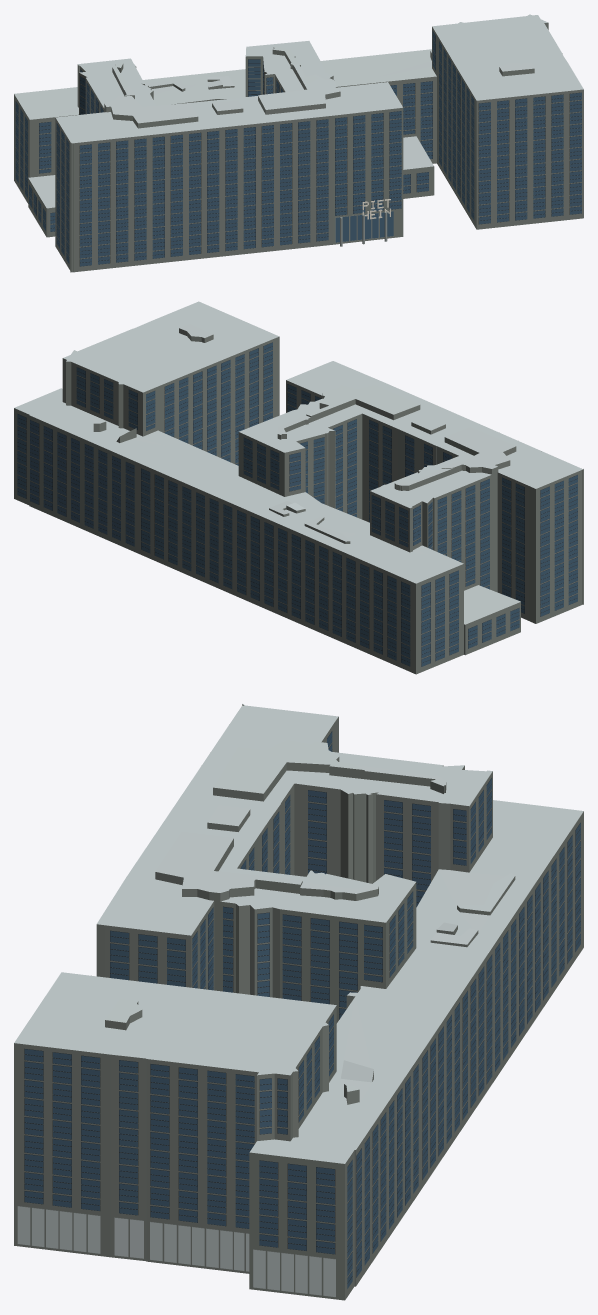
File: vriesseveem-9.glb
3 renders of one model, top to bottom at view 1: azimuth 30°, elevation 25°; view 2: azimuth 150°, elevation 25°; view 3: azimuth 270°, elevation 25°, orthographic. The views are drawn at different scales.
Visible parts, largest first — view 1: vriesseveem-9; view 2: vriesseveem-9; view 3: vriesseveem-9.
Boxes of the visible parts, bbox=[...] form: vriesseveem-9: bbox=[14, 14, 583, 272]; vriesseveem-9: bbox=[14, 301, 583, 674]; vriesseveem-9: bbox=[14, 703, 583, 1300].
Bounding box in the file's own units: 139 × 34.94 × 85.
